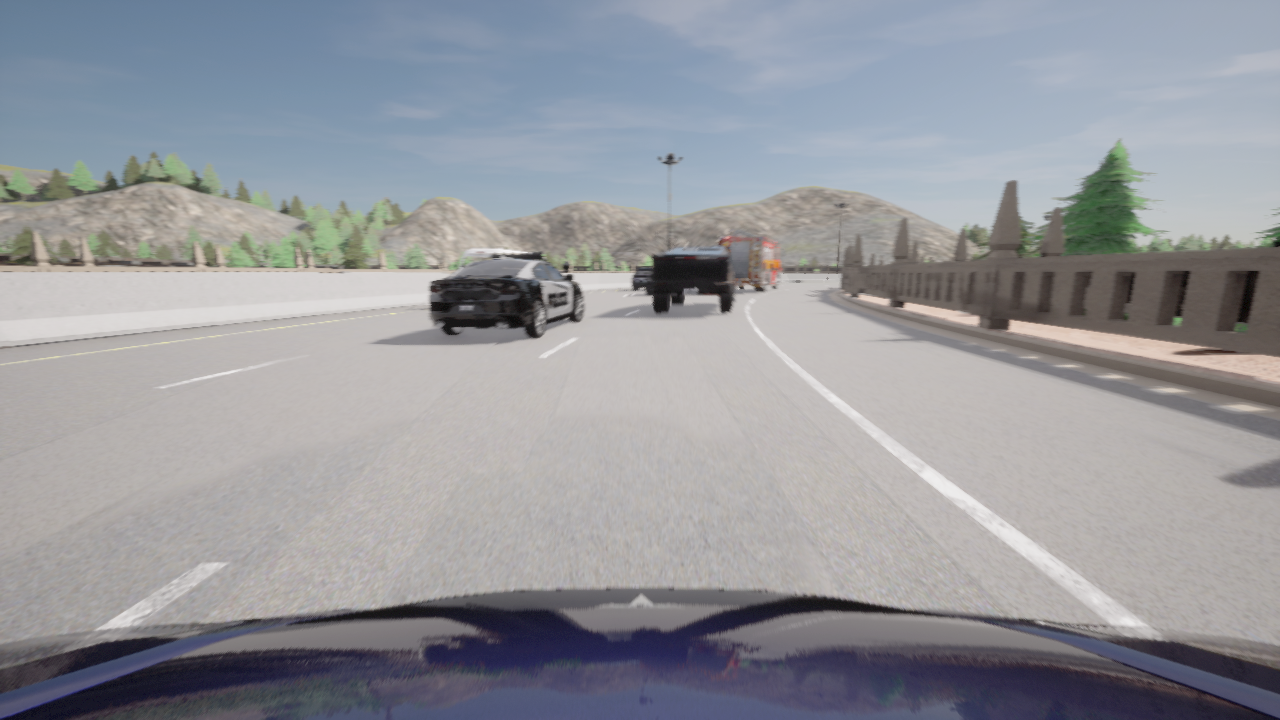cyclist: (0, 588, 1279, 719), (428, 253, 583, 337), (652, 247, 735, 313), (718, 229, 784, 292), (458, 248, 545, 269), (632, 267, 652, 290), (645, 271, 653, 294)
